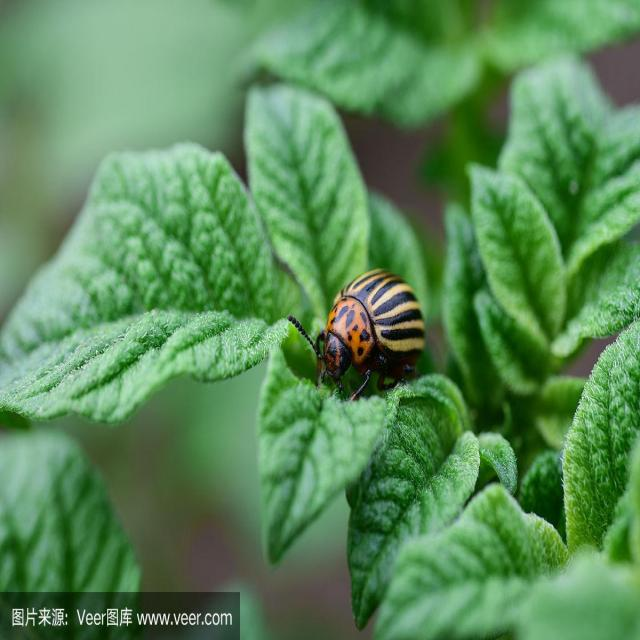ShuCaiHuaBanChong-Grown-: (302, 253, 439, 405)
